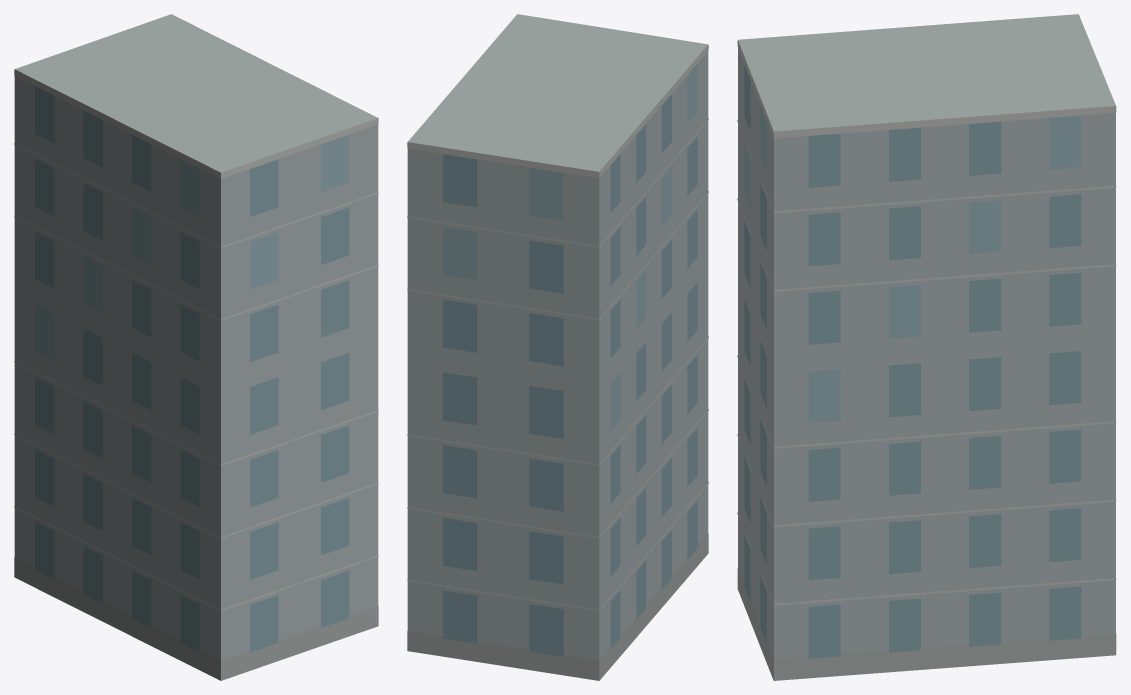
File: survey-upis-32906123.glb
3 views of the same model, side by side, from view 1: azimuth 30°, elevation 25°; view 2: azimuth 150°, elevation 25°; view 3: azimuth 270°, elevation 25° (orthographic). The views are drawn at different scales.
Visible parts, largest first — view 1: survey-upis-32906123.tmp; view 2: survey-upis-32906123.tmp; view 3: survey-upis-32906123.tmp.
Part boxes in pixels (x1,y1,x2,y2): survey-upis-32906123.tmp: [14, 14, 378, 680]; survey-upis-32906123.tmp: [407, 14, 708, 680]; survey-upis-32906123.tmp: [737, 14, 1116, 680].
Size of the model in its own units: 8.97 by 19.5 by 12.2.
